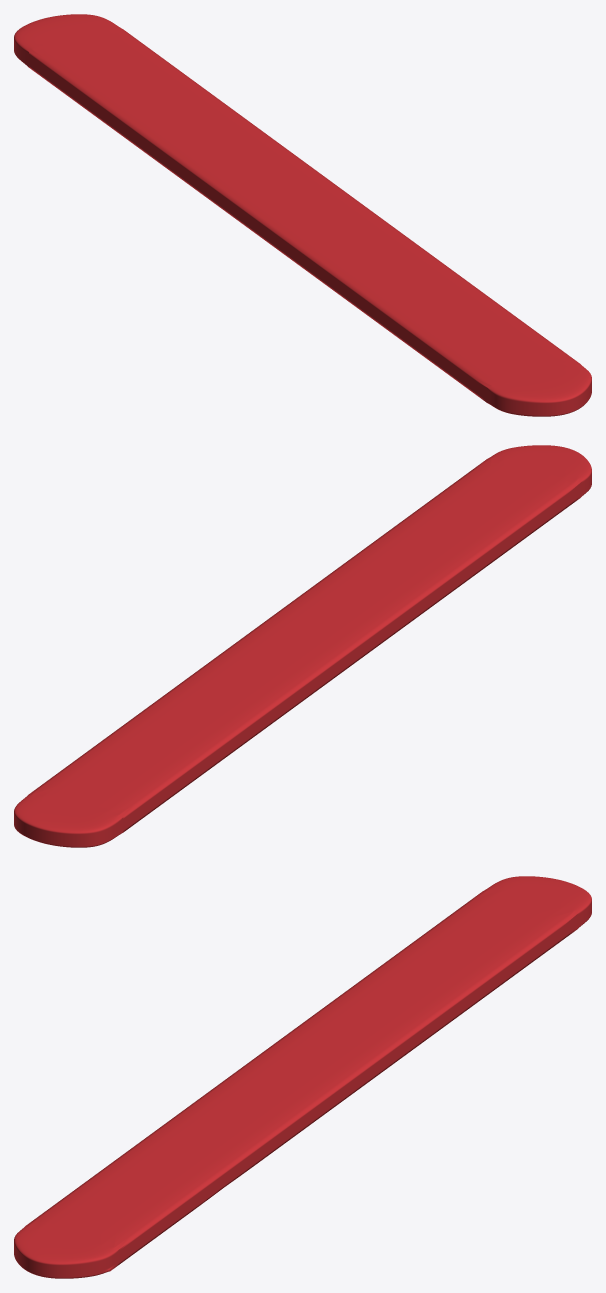
The model's file is mayamayadil.fbx.
3 views of the same model, one above another, from view 1: azimuth 30°, elevation 25°; view 2: azimuth 150°, elevation 25°; view 3: azimuth 330°, elevation 25° (orthographic).
Parts seen in each view (by area): view 1: pCube1; view 2: pCube1; view 3: pCube1.
Boxes of the visible parts, x1,y1,x2,y2 form: pCube1: (14, 14, 591, 416); pCube1: (14, 445, 591, 847); pCube1: (14, 876, 591, 1278).
Bounding box in the file's own units: 1.46 × 0.2869 × 13.99.
